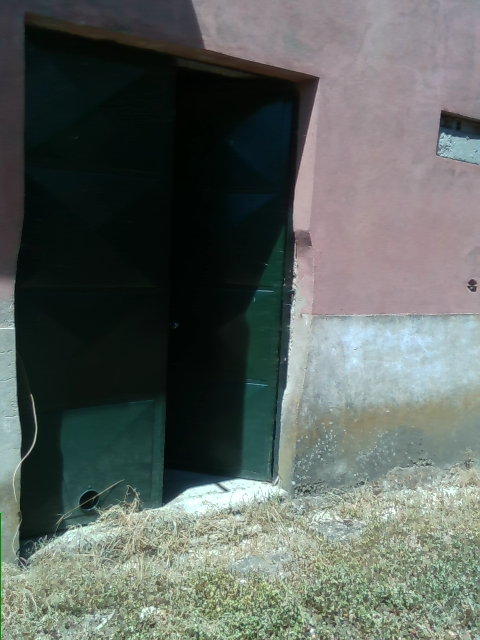semi: (18, 17, 319, 542)
